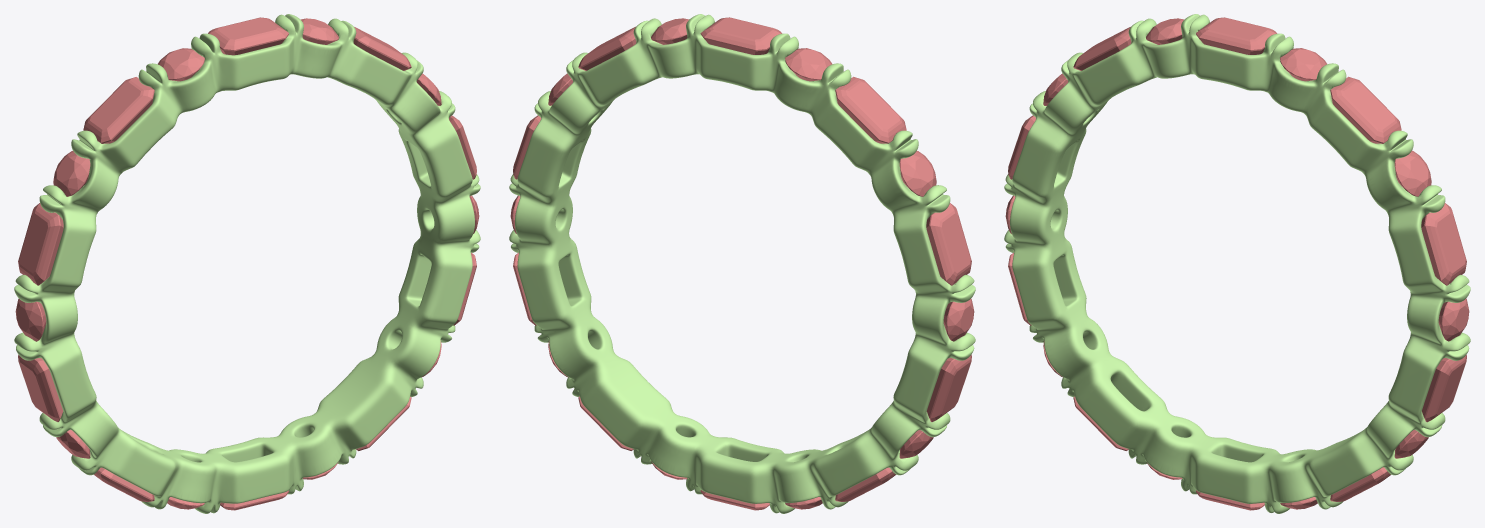
Rendered from BE2D450LC_RENDER.glb.
The picture shows the model from 3 angles, left to right: view 1: azimuth 30°, elevation 25°; view 2: azimuth 150°, elevation 25°; view 3: azimuth 330°, elevation 25°; orthographic projection.
Parts seen in each view (by area): view 1: Metal03, Diamond_Emerald_Gem_BD.008, Diamond_Emerald_Gem_BD.004, Diamond_Emerald_Gem_BD.009, Diamond_Emerald_Gem_BD.007, Diamond_Round_Gem_BD.006, Diamond_Round_Gem_BD.007, Diamond_Emerald_Gem_BD, Diamond_Round_Gem_BD.005, Diamond_Emerald_Gem_BD.003, Diamond_Round_Gem_BD.008, Diamond_Round_Gem_BD.004 (+1 smaller); view 2: Metal03, Diamond_Emerald_Gem_BD.008, Diamond_Emerald_Gem_BD.004, Diamond_Emerald_Gem_BD.009, Diamond_Emerald_Gem_BD.007, Diamond_Round_Gem_BD.006, Diamond_Round_Gem_BD.007, Diamond_Emerald_Gem_BD, Diamond_Round_Gem_BD.005, Diamond_Emerald_Gem_BD.003, Diamond_Round_Gem_BD.008, Diamond_Round_Gem_BD.004 (+1 smaller); view 3: Metal03, Diamond_Emerald_Gem_BD, Diamond_Emerald_Gem_BD.005, Diamond_Emerald_Gem_BD.009, Diamond_Emerald_Gem_BD.001, Diamond_Round_Gem_BD, Diamond_Round_Gem_BD.008, Diamond_Emerald_Gem_BD.008, Diamond_Round_Gem_BD.001, Diamond_Emerald_Gem_BD.006, Diamond_Round_Gem_BD.007, Diamond_Round_Gem_BD.002 (+1 smaller).
Part boxes in pixels (<box>): Metal03: <box>14,14,480,513</box>; Diamond_Emerald_Gem_BD.008: <box>83,77,154,143</box>; Diamond_Emerald_Gem_BD.004: <box>18,203,63,285</box>; Diamond_Emerald_Gem_BD.009: <box>208,17,288,55</box>; Diamond_Emerald_Gem_BD.007: <box>18,354,63,421</box>; Diamond_Round_Gem_BD.006: <box>53,151,90,196</box>; Diamond_Round_Gem_BD.007: <box>158,48,204,81</box>; Diamond_Emerald_Gem_BD: <box>353,27,411,70</box>; Diamond_Round_Gem_BD.005: <box>15,298,46,341</box>; Diamond_Emerald_Gem_BD.003: <box>94,467,154,501</box>; Diamond_Round_Gem_BD.008: <box>300,18,338,44</box>; Diamond_Round_Gem_BD.004: <box>56,430,90,458</box>; Metal03: <box>509,14,975,513</box>; Diamond_Emerald_Gem_BD.008: <box>835,76,906,143</box>; Diamond_Emerald_Gem_BD.004: <box>926,203,971,285</box>; Diamond_Emerald_Gem_BD.009: <box>700,17,781,54</box>; Diamond_Emerald_Gem_BD.007: <box>926,354,971,421</box>; Diamond_Round_Gem_BD.006: <box>899,151,936,196</box>; Diamond_Round_Gem_BD.007: <box>785,48,832,81</box>; Diamond_Emerald_Gem_BD: <box>578,26,636,70</box>; Diamond_Round_Gem_BD.005: <box>943,298,974,341</box>; Diamond_Emerald_Gem_BD.003: <box>835,467,895,501</box>; Diamond_Round_Gem_BD.008: <box>651,18,688,44</box>; Diamond_Round_Gem_BD.004: <box>899,430,933,458</box>; Metal03: <box>1004,14,1470,513</box>; Diamond_Emerald_Gem_BD: <box>1330,76,1401,143</box>; Diamond_Emerald_Gem_BD.005: <box>1421,203,1466,285</box>; Diamond_Emerald_Gem_BD.009: <box>1196,17,1276,54</box>; Diamond_Emerald_Gem_BD.001: <box>1422,355,1466,422</box>; Diamond_Round_Gem_BD: <box>1394,150,1431,196</box>; Diamond_Round_Gem_BD.008: <box>1280,48,1326,81</box>; Diamond_Emerald_Gem_BD.008: <box>1073,27,1131,70</box>; Diamond_Round_Gem_BD.001: <box>1438,298,1469,341</box>; Diamond_Emerald_Gem_BD.006: <box>1330,467,1390,501</box>; Diamond_Round_Gem_BD.007: <box>1146,18,1184,44</box>; Diamond_Round_Gem_BD.002: <box>1394,430,1428,458</box>.
Bounding box in the file's own units: 20.87 × 20.69 × 2.4.
